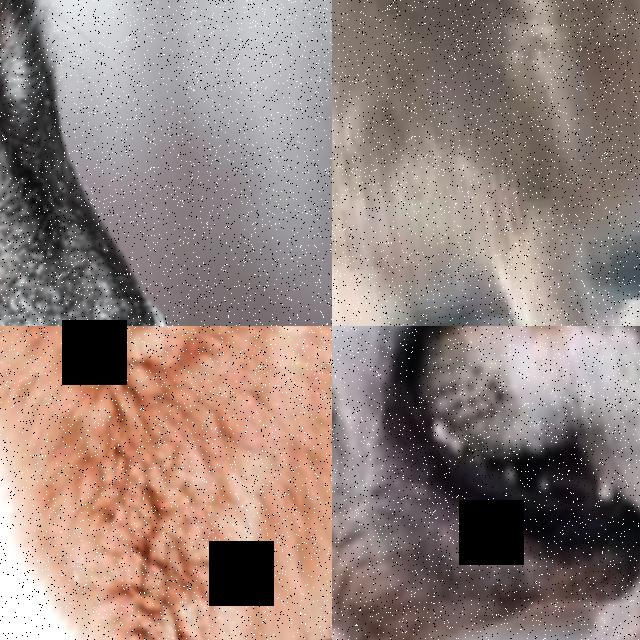dog: (0, 326, 332, 640)
wolf: (332, 0, 640, 326), (332, 326, 640, 640), (358, 326, 640, 640), (0, 0, 248, 326)
